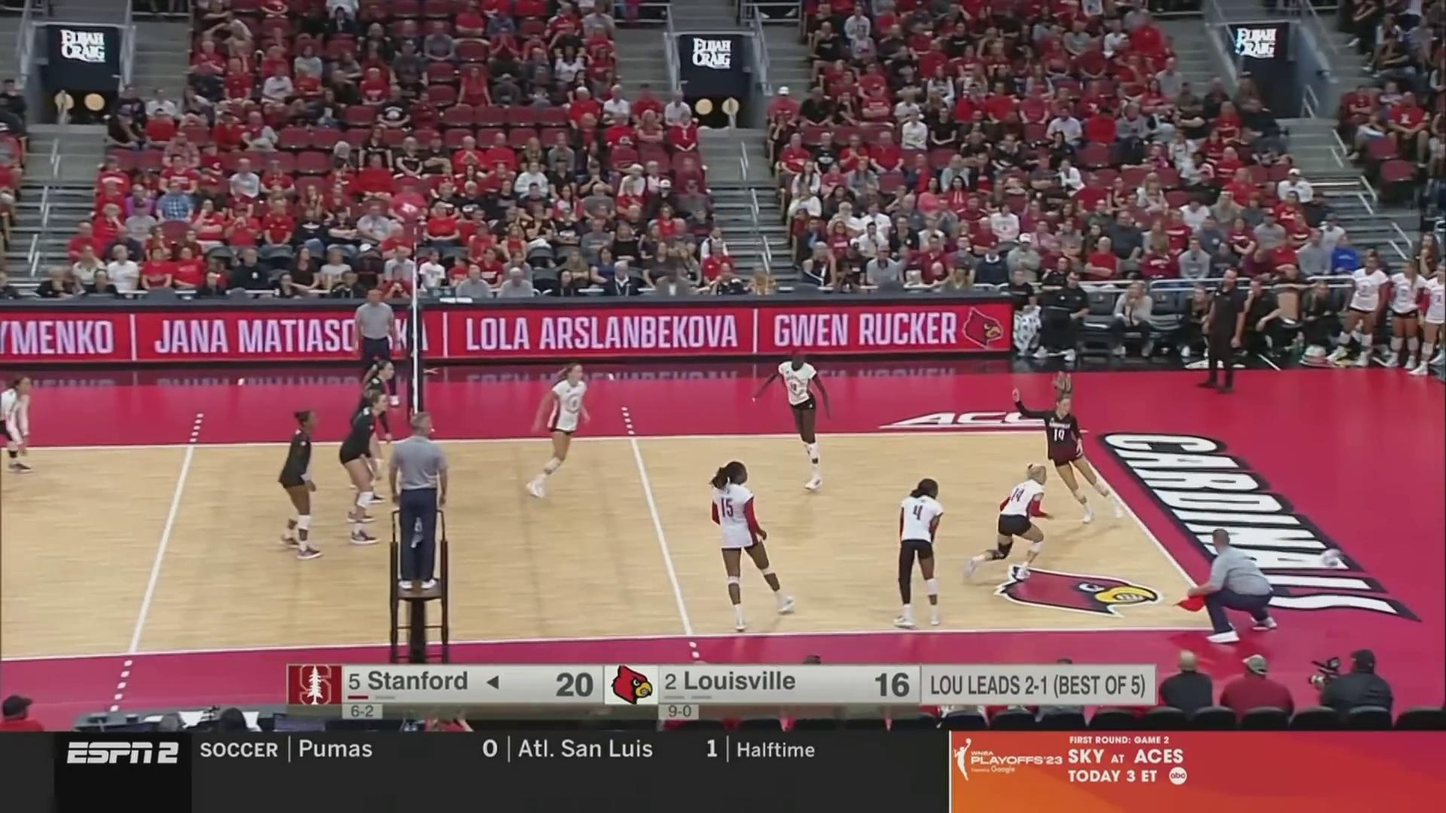player: (1013, 379, 1125, 522), (712, 461, 798, 632), (967, 462, 1056, 586), (764, 350, 830, 491), (525, 364, 594, 498), (894, 479, 943, 627), (338, 395, 387, 542), (281, 409, 327, 556), (355, 361, 395, 501), (0, 379, 37, 476)
refree: (390, 410, 448, 585), (1189, 527, 1277, 641), (355, 289, 400, 408)
